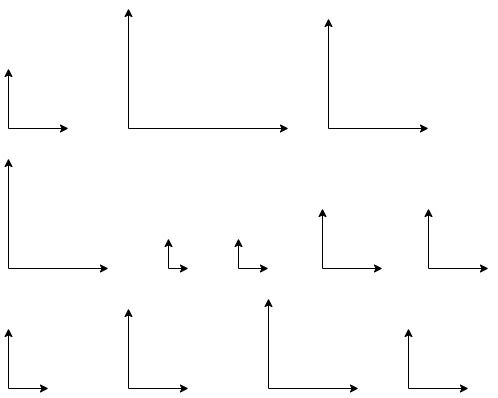bi_horizontal: (122, 7, 292, 136), (320, 16, 430, 136), (3, 157, 108, 277), (263, 296, 359, 393), (123, 306, 189, 394), (402, 325, 468, 395), (424, 206, 489, 276), (317, 208, 383, 275), (4, 69, 70, 135), (2, 326, 51, 393), (233, 237, 271, 274), (163, 236, 189, 272)
